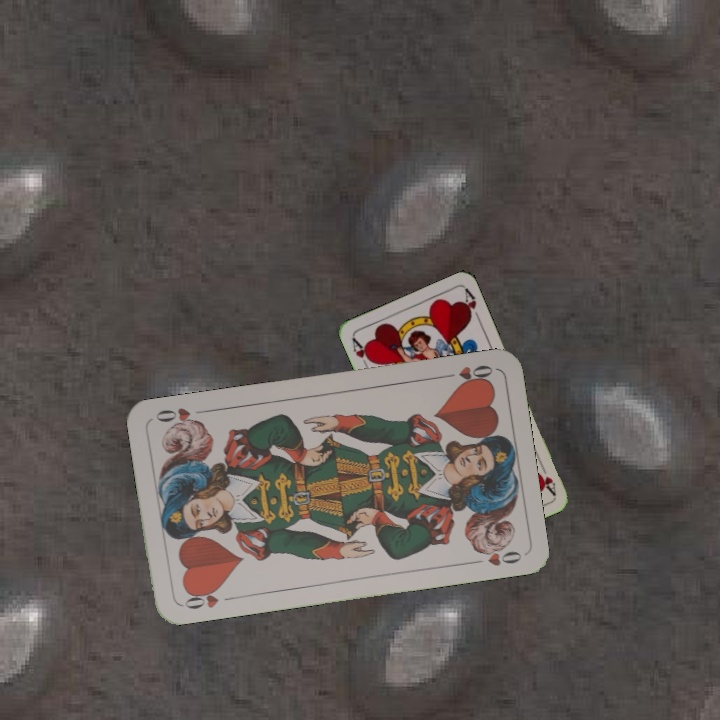HA: (348, 333, 375, 372), (532, 458, 558, 497)
HO: (178, 583, 237, 612), (438, 360, 496, 388)
